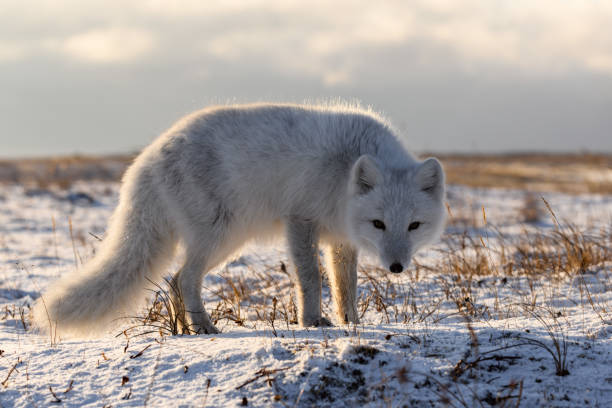arcticfox: (349, 170, 421, 273)
